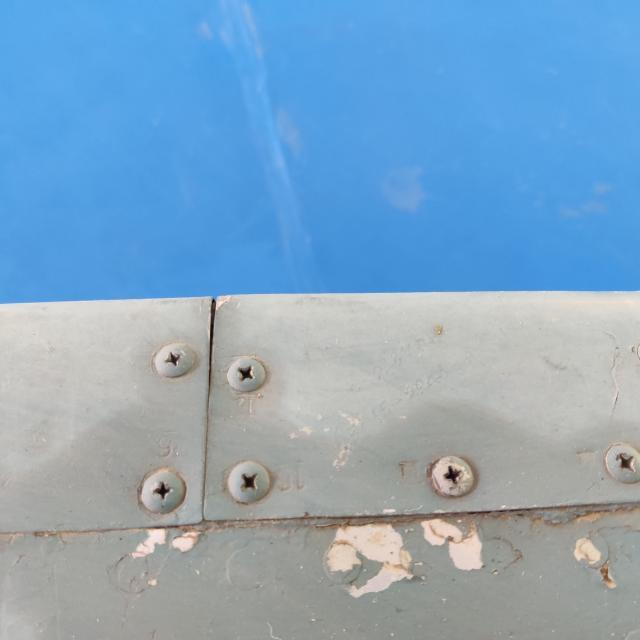paint-off: (13, 312, 146, 500), (60, 126, 146, 220), (45, 561, 109, 627)
